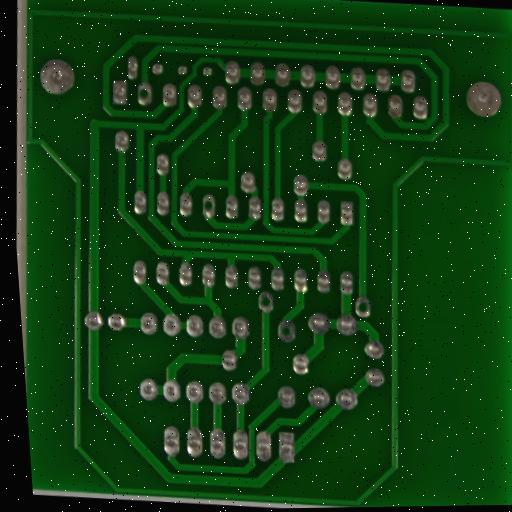missing_hole: (134, 82, 156, 104), (276, 320, 297, 343), (199, 194, 219, 217), (354, 297, 374, 316), (257, 293, 276, 312)
